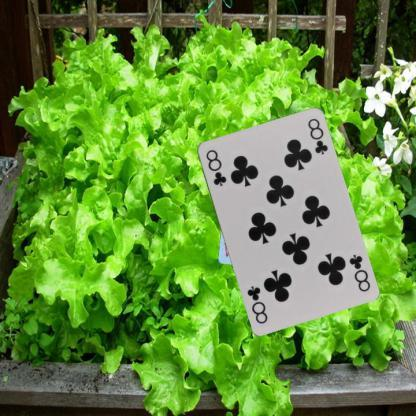8c: (346, 251, 371, 293), (203, 147, 228, 188)
